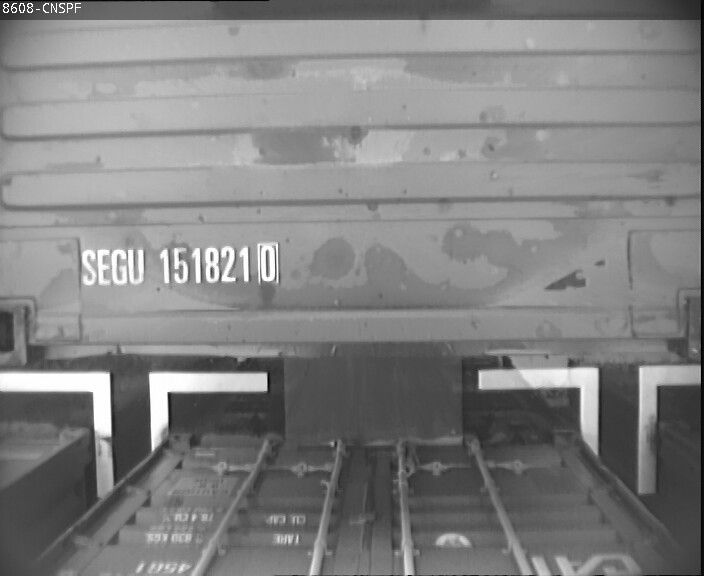groundmarker_1: (1, 367, 266, 504), (478, 363, 704, 492)
